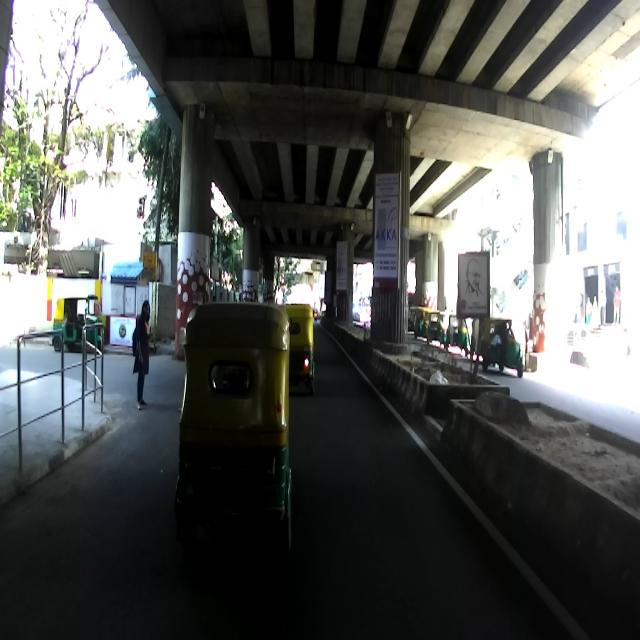autorickshaw: (170, 296, 294, 570), (50, 293, 105, 351)
